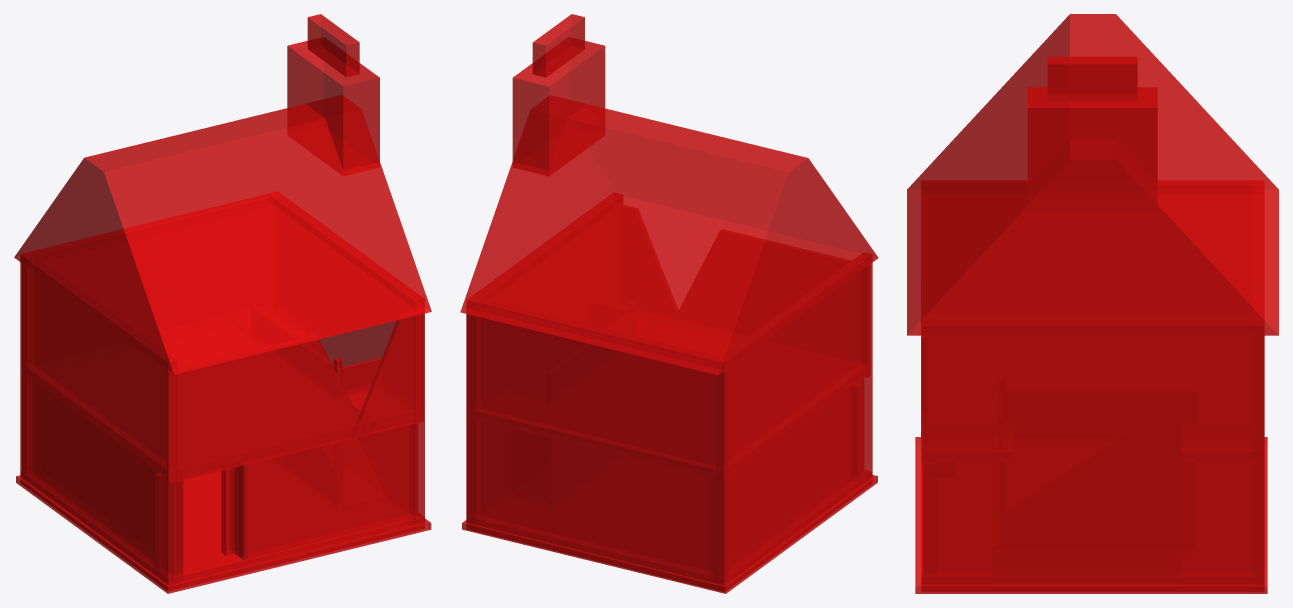
File: SM_Bld_City_Preset_07_Collision.fbx
The picture shows the model from 3 angles, left to right: view 1: azimuth 30°, elevation 25°; view 2: azimuth 150°, elevation 25°; view 3: azimuth 270°, elevation 25°; orthographic projection. The views are drawn at different scales.
Visible parts, largest first — view 1: SM_Bld_City_Preset_07_Collision; view 2: SM_Bld_City_Preset_07_Collision; view 3: SM_Bld_City_Preset_07_Collision.
Part boxes in pixels (x1,y1,x2,y2): SM_Bld_City_Preset_07_Collision: [14, 14, 431, 593]; SM_Bld_City_Preset_07_Collision: [460, 14, 878, 593]; SM_Bld_City_Preset_07_Collision: [907, 14, 1278, 593].
Size of the model in its own units: 776 by 1264 by 817.
